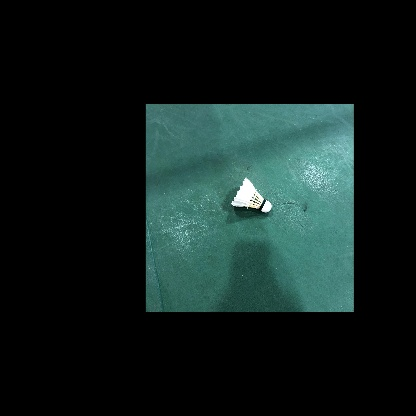ball_single: (231, 178, 272, 213)
